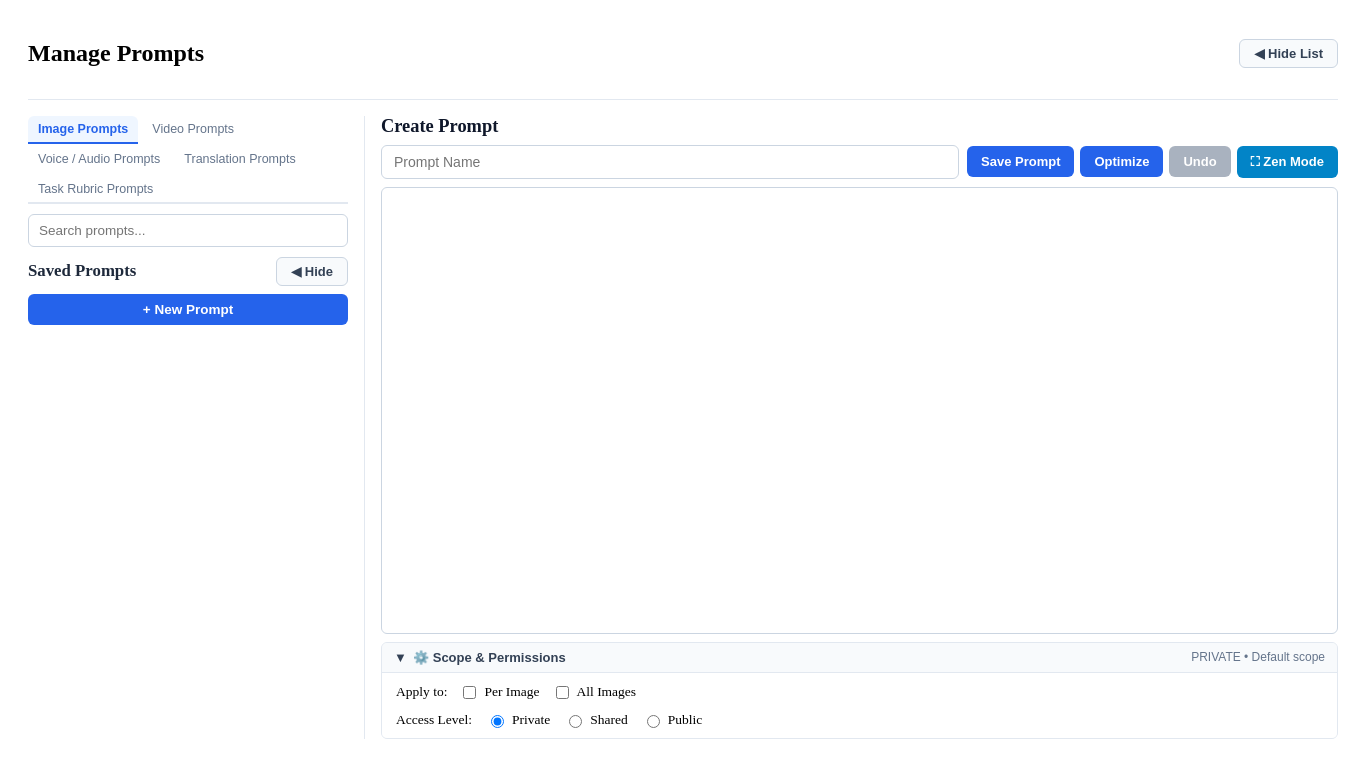
PromptManagement Component › handles sharing with user email and removing shared user
The image size is (1366, 768).
Select Shared radio button
Click the radio button showing "shared". click: (576, 721)
box: [569,715,582,728]
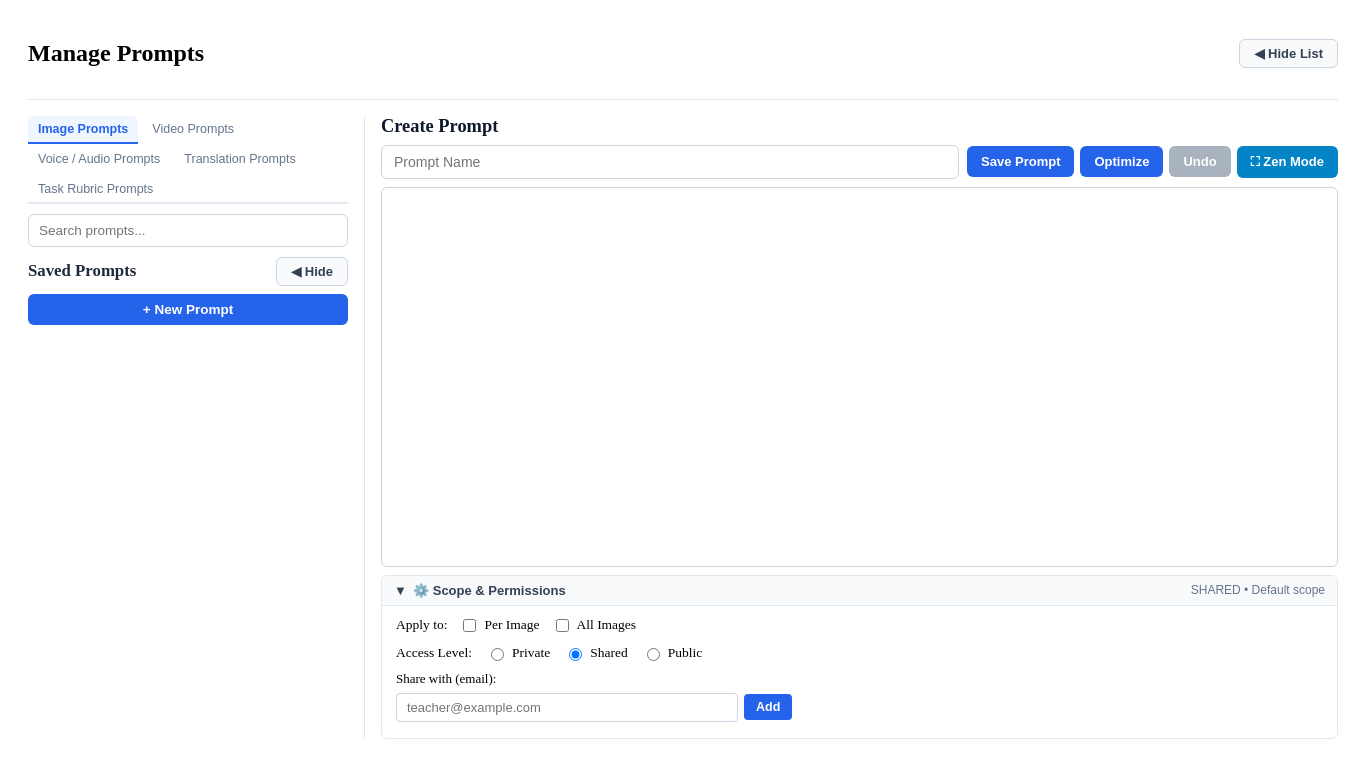
Enter email to add
Type "ta@school.edu" into the field with placeholder "teacher@example.com". click: (567, 707)
box: [396,693,738,722]
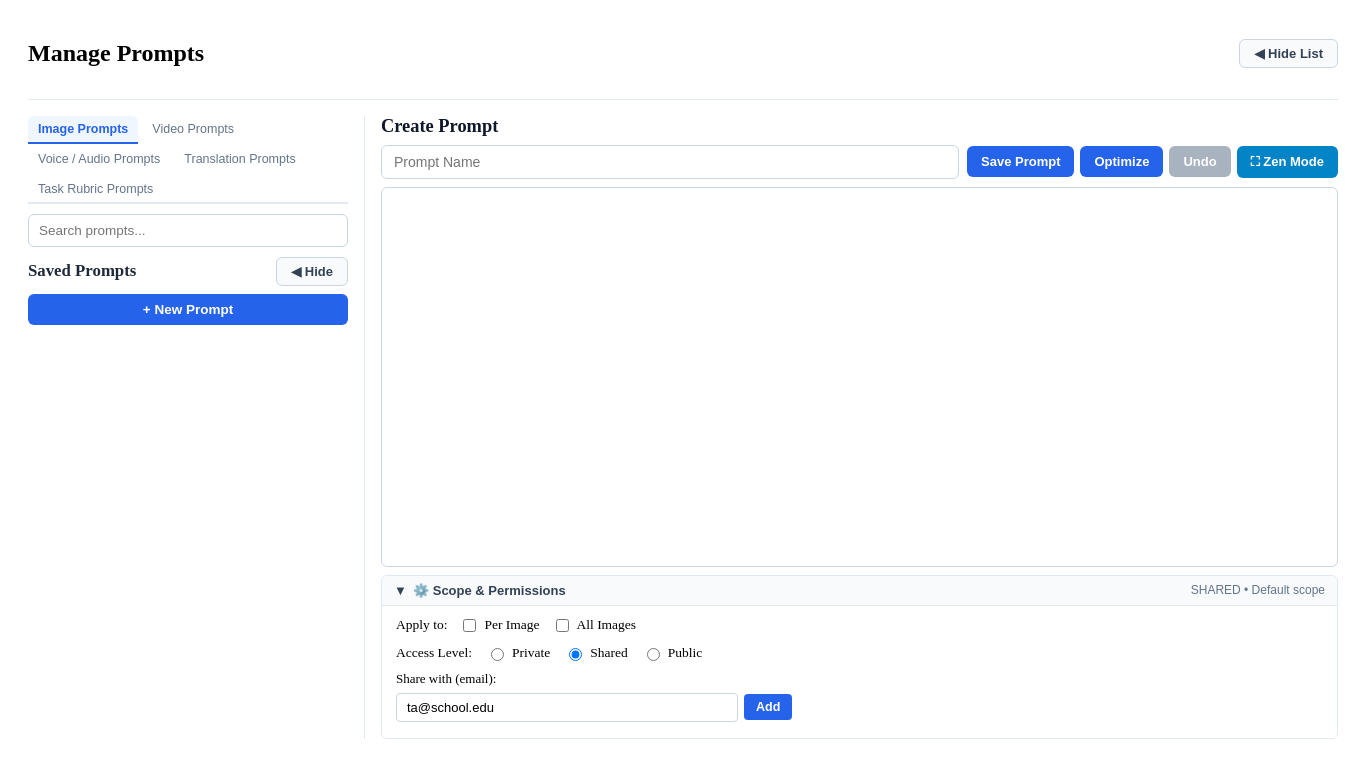
Click the button "Add". click: (768, 707)
box: [744,694,792,720]
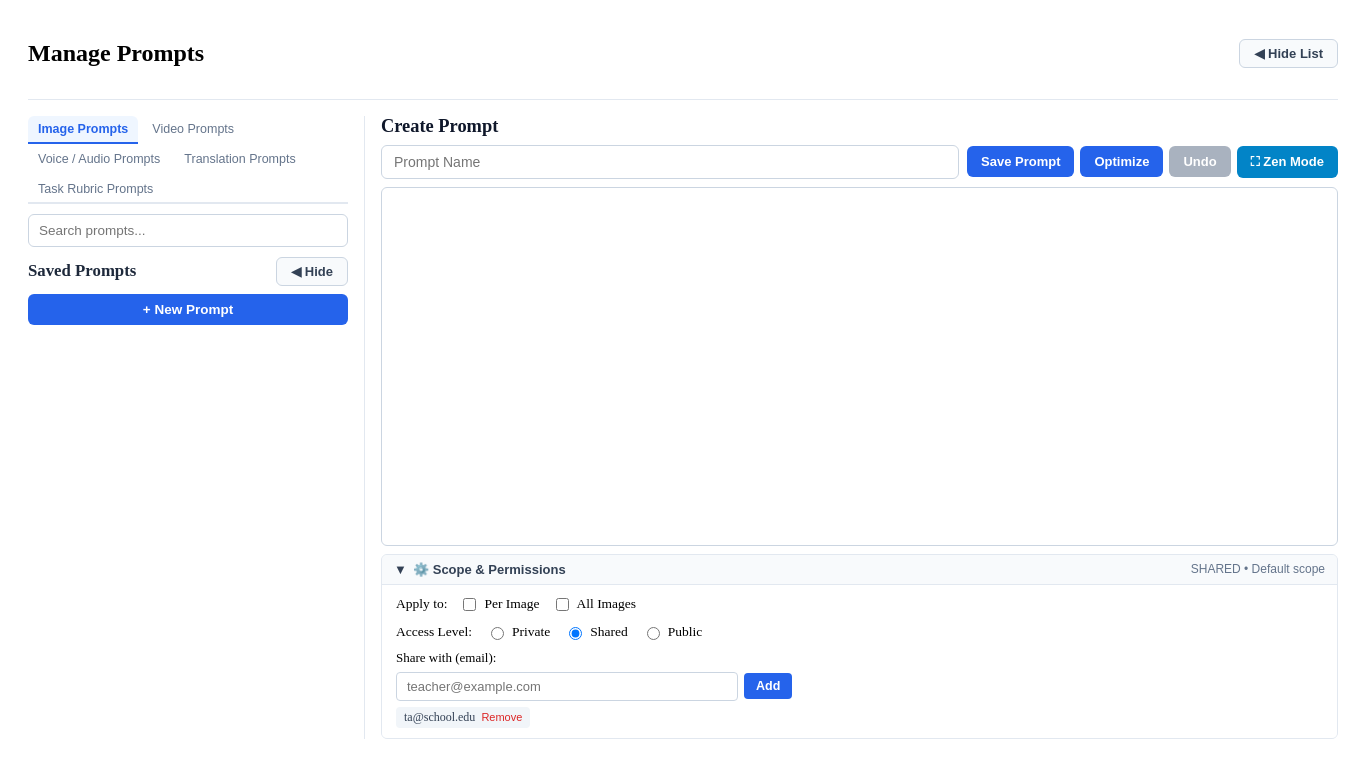
expect the list item "ta@school.edu" is shown: met, box [404,710,475,724]
Remove user
Click the button "Remove". click: (502, 717)
box: [481,711,522,723]
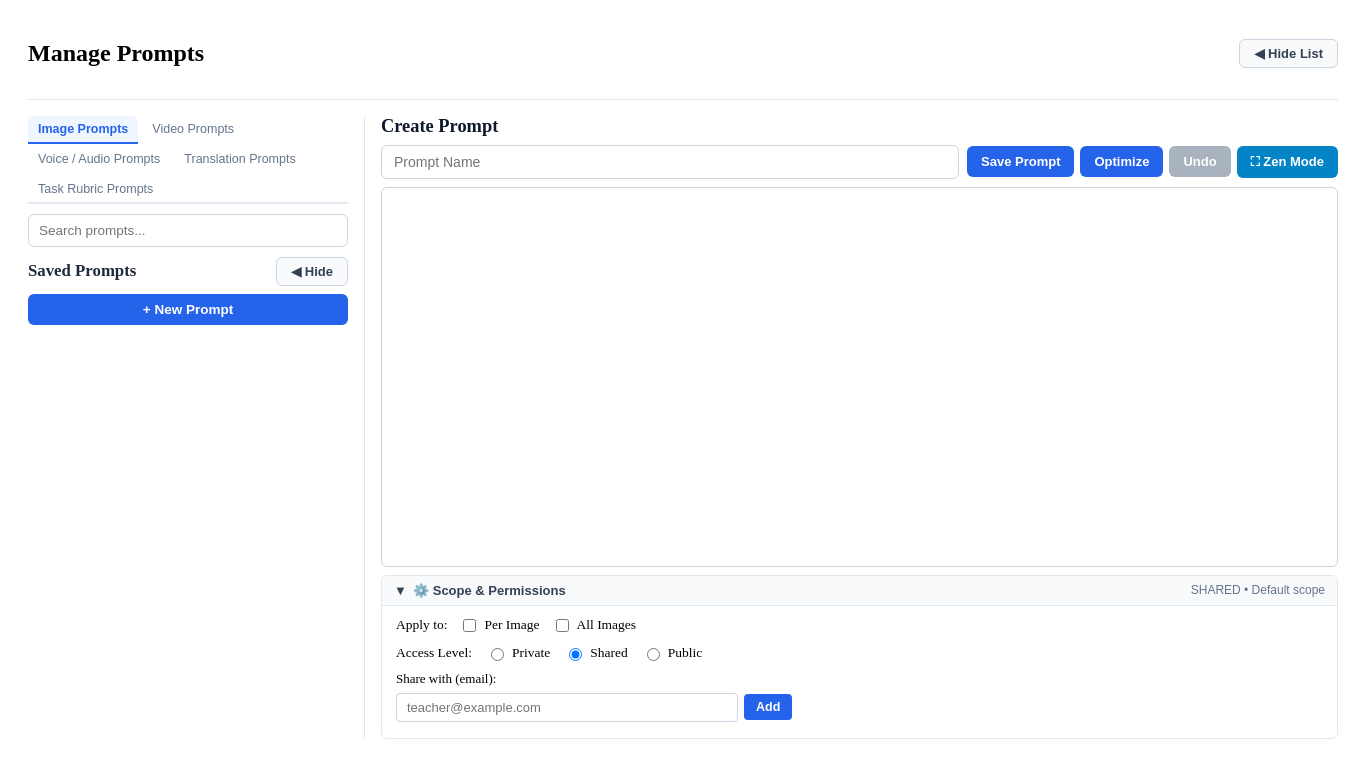
expect the list item "ta@school.edu" is gone: met
